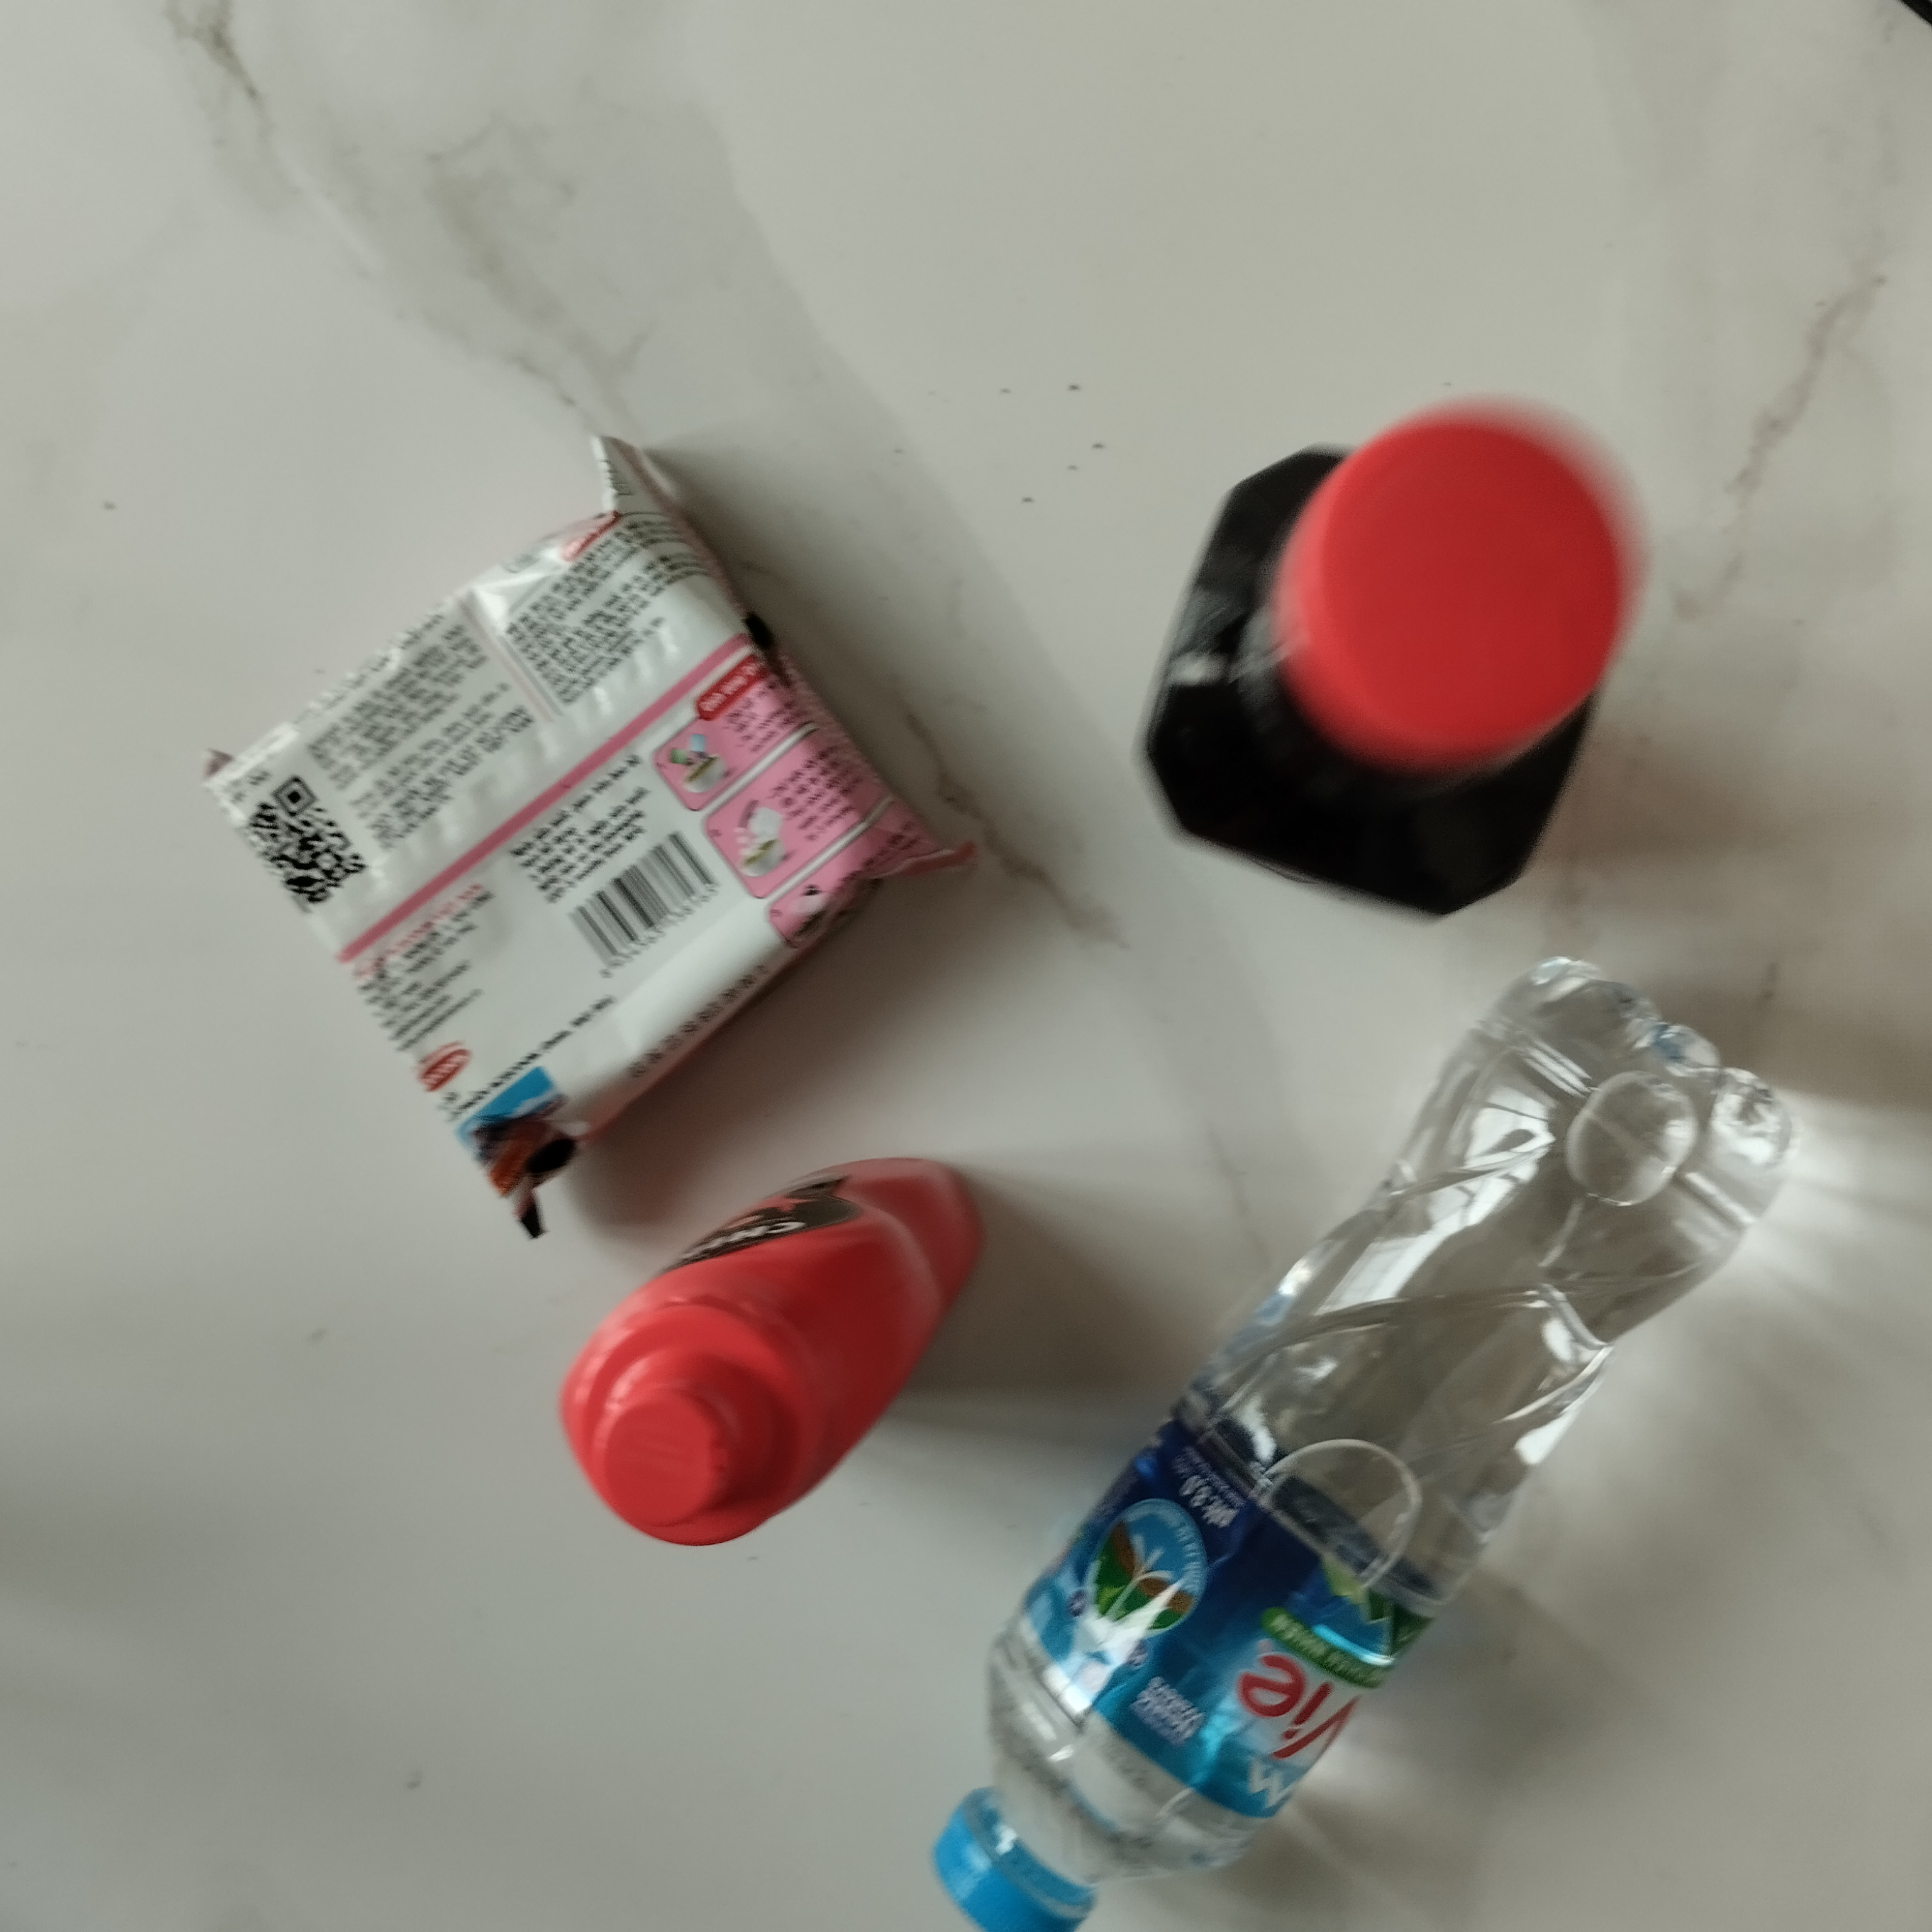Chinsu: (552, 1148, 991, 1559)
Haohao: (196, 433, 968, 1251)
Lavie: (924, 962, 1813, 1932)
Namngu: (1131, 409, 1637, 939)
